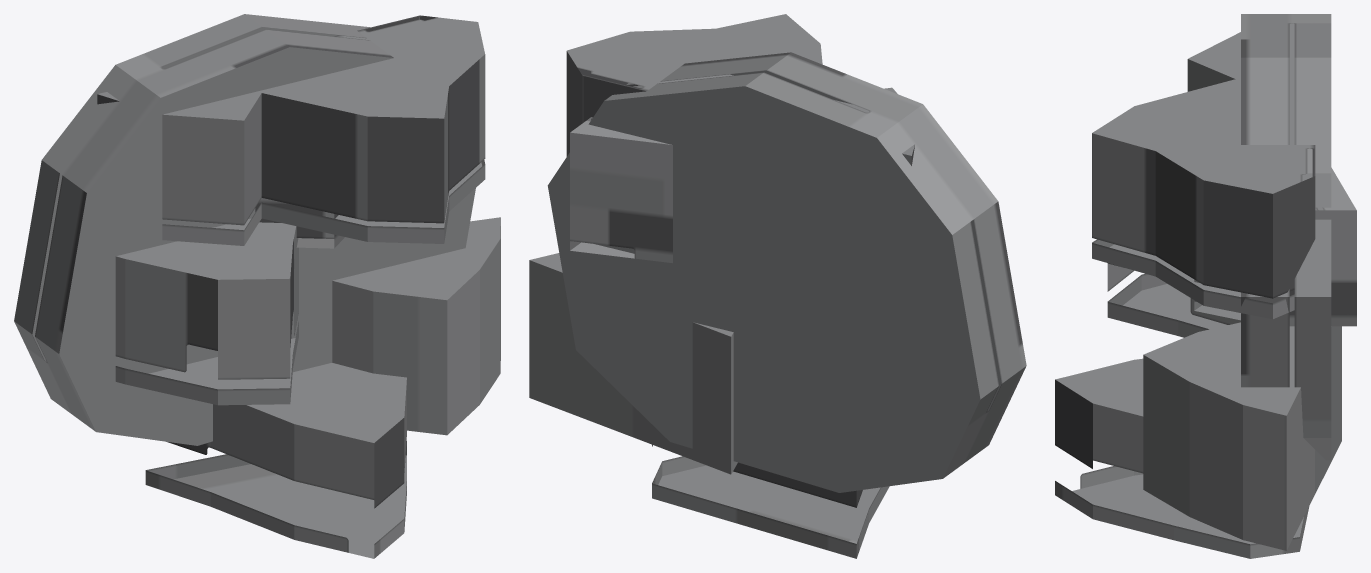
The picture shows the model from 3 angles, left to right: view 1: azimuth 30°, elevation 25°; view 2: azimuth 150°, elevation 25°; view 3: azimuth 270°, elevation 25°; orthographic projection. The views are drawn at different scales.
Bounding box in the file's own units: 0.5441 × 0.4944 × 0.3061.
